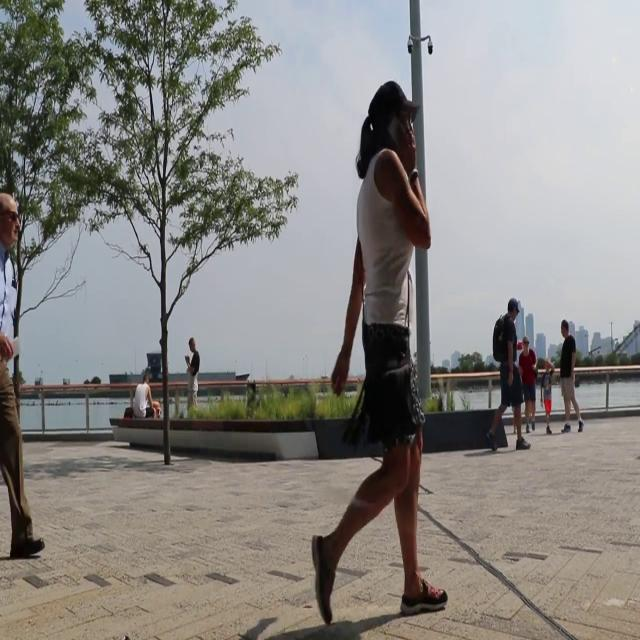normal: (310, 79, 460, 621)
